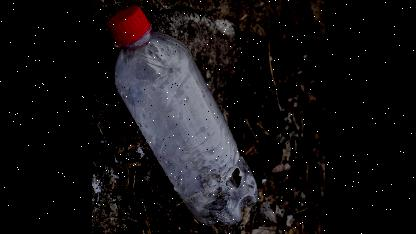Plastic Bottle: (105, 6, 256, 226)
